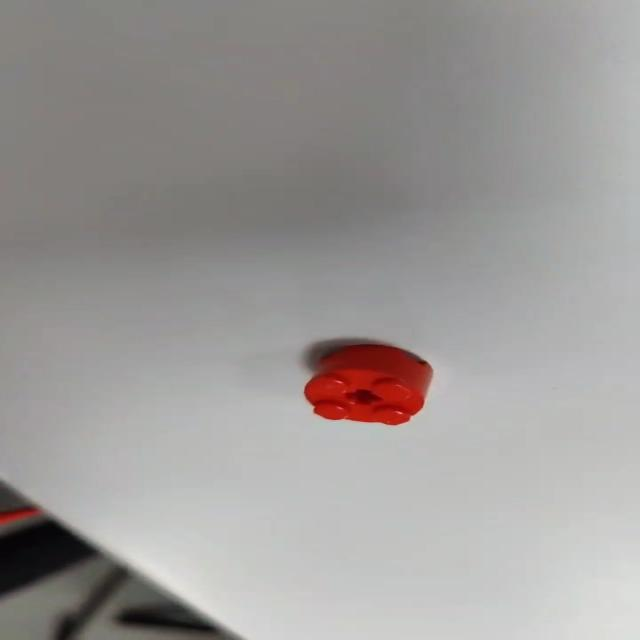S2x2x1: (296, 340, 432, 428)
